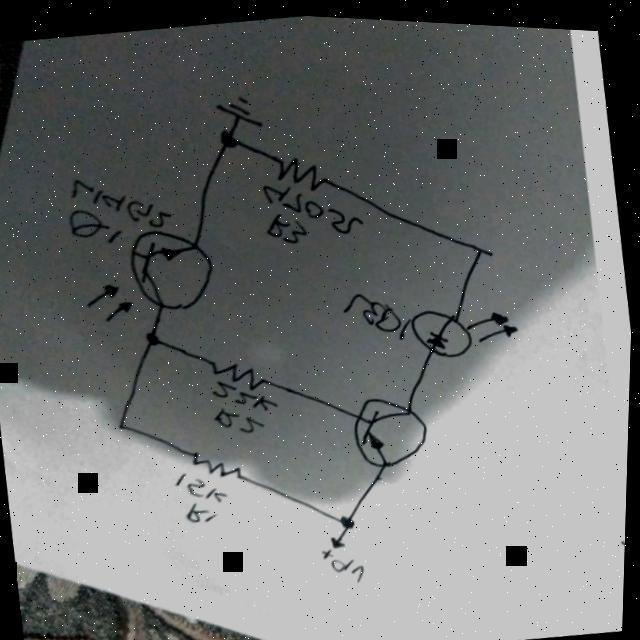diode: (408, 288, 526, 362)
ground: (209, 86, 267, 134)
junction: (215, 123, 241, 147), (144, 327, 165, 346), (471, 235, 491, 254), (112, 414, 132, 433), (338, 509, 358, 528)
resistor: (206, 348, 271, 396), (272, 144, 327, 192), (188, 440, 245, 483)
source: (328, 528, 351, 547)
text: (60, 164, 178, 251), (258, 165, 367, 248), (338, 278, 418, 346), (208, 368, 275, 438), (173, 464, 237, 526), (320, 537, 371, 586)
transistor: (77, 212, 227, 330), (346, 382, 436, 472)
